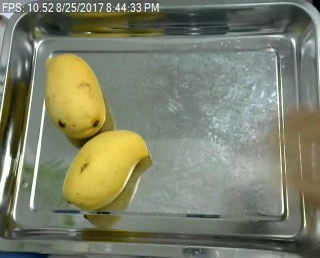Mango: (60, 127, 153, 213), (41, 51, 107, 139)
